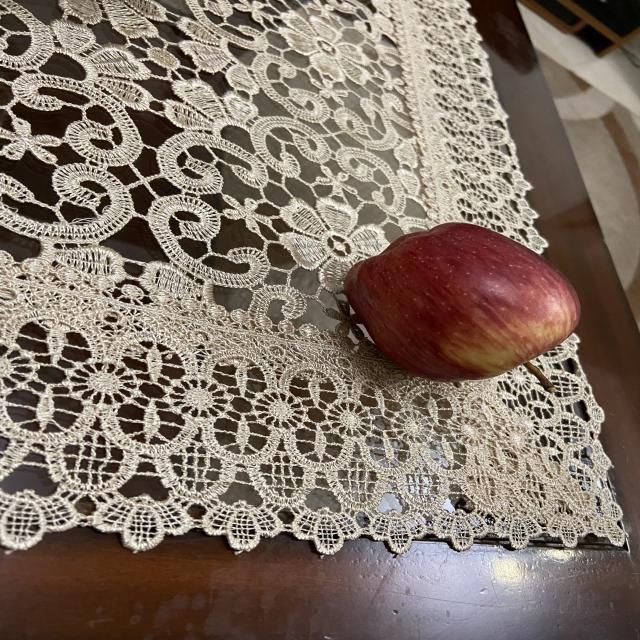apple: (344, 212, 588, 404)
